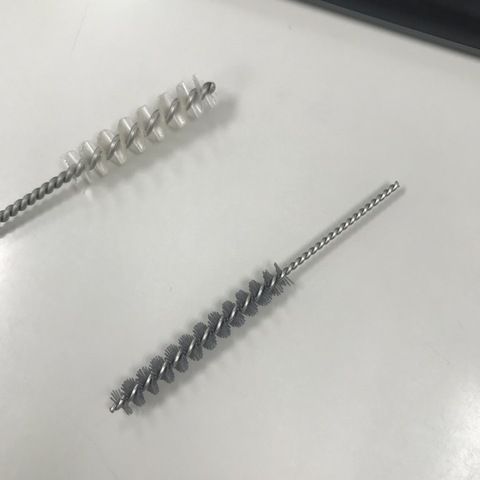Twist Brush-A: (109, 176, 400, 420)
Twist Brush-B: (1, 75, 227, 225)
